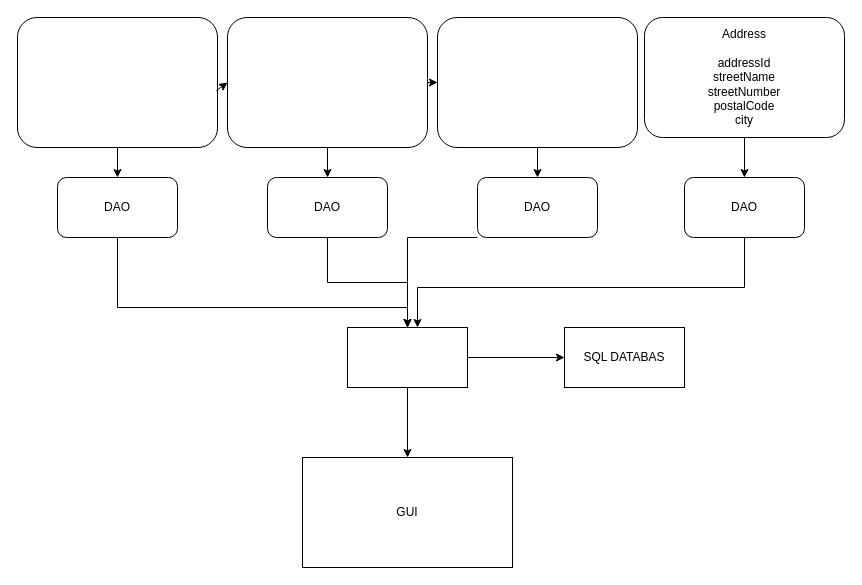
This 862x585 diagram has some shape labels left out. Here are the shapes that lost their labels. From the top down, the box of each, then its label:
(16, 16, 218, 148): Customer customerId firstName lastName phoneNumber emailAddress
(226, 16, 428, 148): Reviews reviewId customerId restaurantId text stars
(436, 16, 638, 148): Restaurants restaurantId addressId name description
(346, 326, 468, 388): Data
